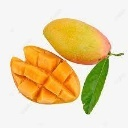mango: (42, 17, 112, 65)
